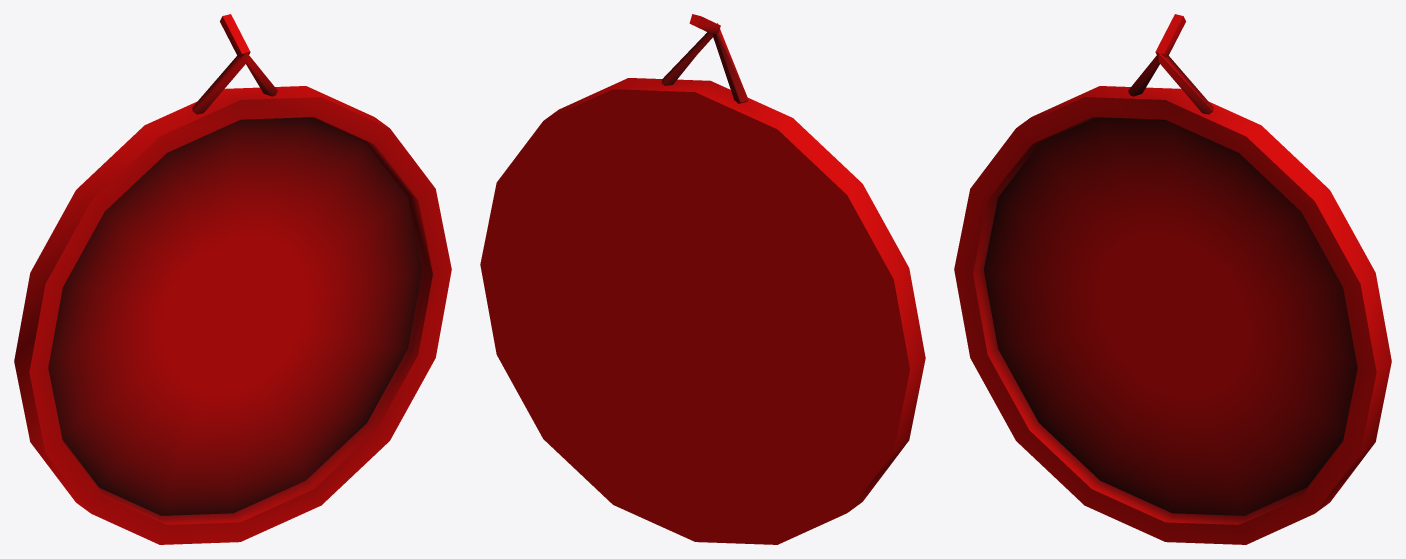
The model's file is CI_Bathroom_Mirror_Round.glb.
The picture shows the model from 3 angles, left to right: view 1: azimuth 30°, elevation 25°; view 2: azimuth 150°, elevation 25°; view 3: azimuth 330°, elevation 25°; orthographic projection.
Visible parts, largest first — view 1: CI_Bathroom_Mirror_Round; view 2: CI_Bathroom_Mirror_Round; view 3: CI_Bathroom_Mirror_Round.
Boxes of the visible parts, box(x1,y1,x2,y2) form: CI_Bathroom_Mirror_Round: box(14, 14, 451, 544); CI_Bathroom_Mirror_Round: box(480, 14, 925, 544); CI_Bathroom_Mirror_Round: box(954, 14, 1391, 544).
Bounding box in the file's own units: 0.56 × 0.6547 × 0.0538.
